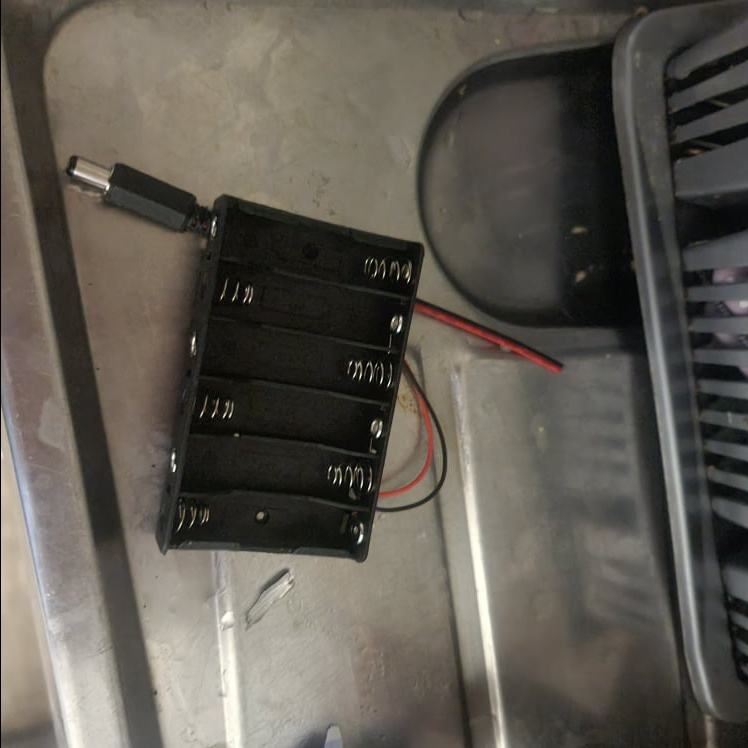BATTERY BOX: (155, 200, 425, 565)
